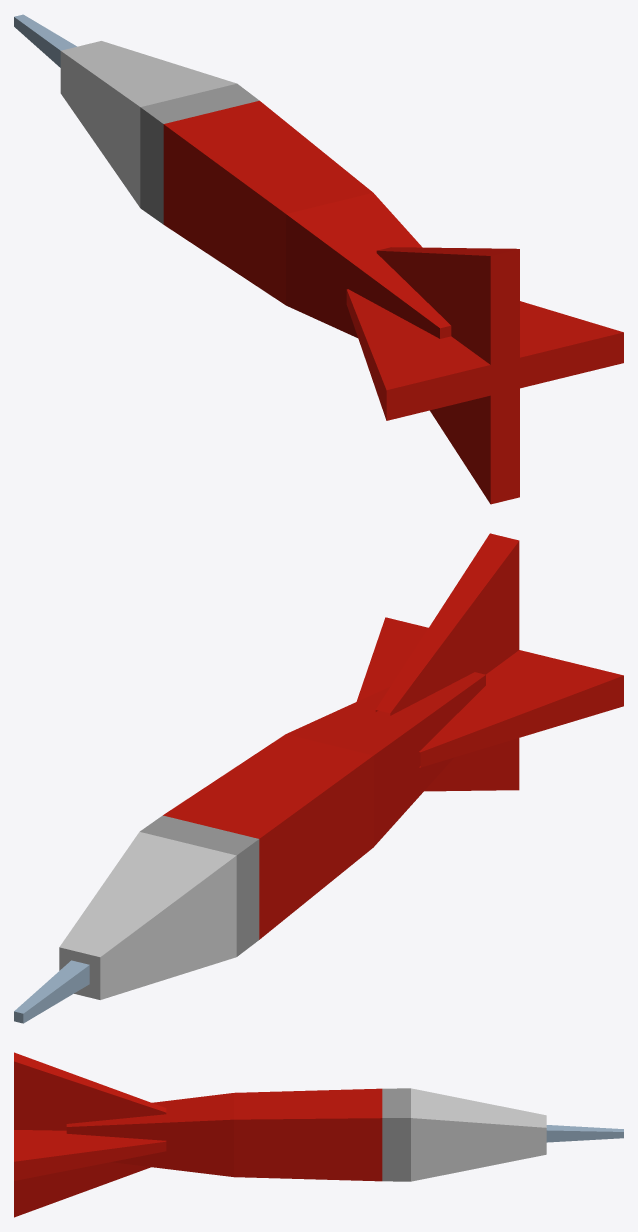
The model's file is Dart Red.fbx.
3 views of the same model, one above another, from view 1: azimuth 30°, elevation 25°; view 2: azimuth 150°, elevation 25°; view 3: azimuth 270°, elevation 25° (orthographic). The views are drawn at different scales.
Visible parts, largest first — view 1: Dart Red; view 2: Dart Red; view 3: Dart Red.
Part boxes in pixels (x1,y1,x2,y2): Dart Red: (14, 14, 623, 504); Dart Red: (14, 533, 623, 1023); Dart Red: (14, 1052, 623, 1217).
Bounding box in the file's own units: 9.23 × 9.23 × 32.65.
